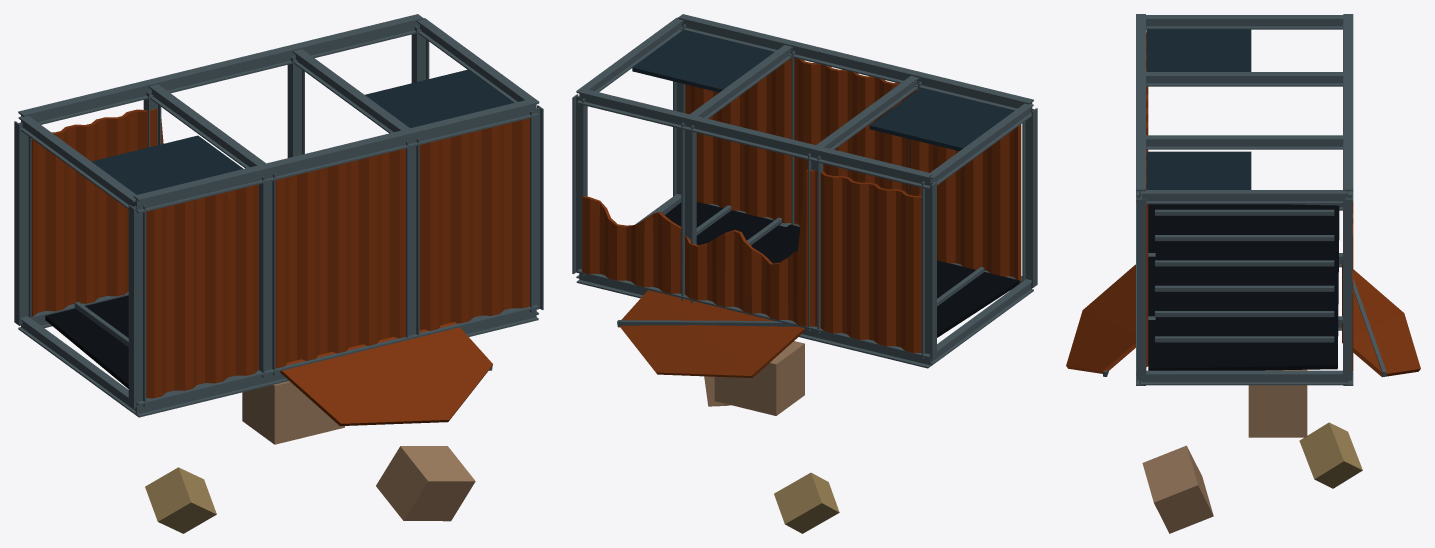
Rendered from aft_cargo_module.glb.
3 renders of one model, left to right at view 1: azimuth 30°, elevation 25°; view 2: azimuth 150°, elevation 25°; view 3: azimuth 270°, elevation 25°, orthographic. The views are drawn at different scales.
Visible parts, largest first — view 1: Remaster_Material_Hull_ServiceOchre, Remaster_Material_Mechanical_BrushedNickel, Remaster_Material_Hull_DeepSeaEnamel, ac_crate_1, ac_crate_0, Remaster_Material_Mechanical_ShadowEnamel, ac_crate_2; view 2: Remaster_Material_Hull_ServiceOchre, Remaster_Material_Mechanical_BrushedNickel, Remaster_Material_Hull_DeepSeaEnamel, Remaster_Material_Mechanical_ShadowEnamel, ac_crate_0, ac_crate_2; view 3: Remaster_Material_Mechanical_BrushedNickel, Remaster_Material_Mechanical_ShadowEnamel, Remaster_Material_Hull_ServiceOchre, Remaster_Material_Hull_DeepSeaEnamel, ac_crate_1, ac_crate_0, ac_crate_2.
Part boxes in pixels (left/top/right/bottom): Remaster_Material_Hull_ServiceOchre: left=31, top=108, right=529, bottom=426; Remaster_Material_Mechanical_BrushedNickel: left=14, top=14, right=543, bottom=417; Remaster_Material_Hull_DeepSeaEnamel: left=91, top=69, right=513, bottom=194; ac_crate_1: left=376, top=446, right=475, bottom=521; ac_crate_0: left=242, top=381, right=344, bottom=444; Remaster_Material_Mechanical_ShadowEnamel: left=45, top=295, right=128, bottom=388; ac_crate_2: left=145, top=467, right=216, bottom=533; Remaster_Material_Hull_ServiceOchre: left=582, top=58, right=1021, bottom=377; Remaster_Material_Mechanical_BrushedNickel: left=572, top=14, right=1037, bottom=368; Remaster_Material_Hull_DeepSeaEnamel: left=632, top=30, right=1013, bottom=150; Remaster_Material_Mechanical_ShadowEnamel: left=665, top=202, right=1019, bottom=337; ac_crate_0: left=714, top=341, right=804, bottom=415; ac_crate_2: left=774, top=472, right=839, bottom=533; Remaster_Material_Mechanical_BrushedNickel: left=1103, top=14, right=1386, bottom=385; Remaster_Material_Mechanical_ShadowEnamel: left=1148, top=204, right=1339, bottom=370; Remaster_Material_Hull_ServiceOchre: left=1066, top=32, right=1420, bottom=377; Remaster_Material_Hull_DeepSeaEnamel: left=1146, top=29, right=1251, bottom=189; ac_crate_1: left=1142, top=445, right=1213, bottom=533; ac_crate_0: left=1248, top=369, right=1307, bottom=437; ac_crate_2: left=1299, top=422, right=1362, bottom=488.
Bounding box in the file's own units: 12.81 × 13.5 × 10.67.
Materials: 6 (4 with a texture image).
